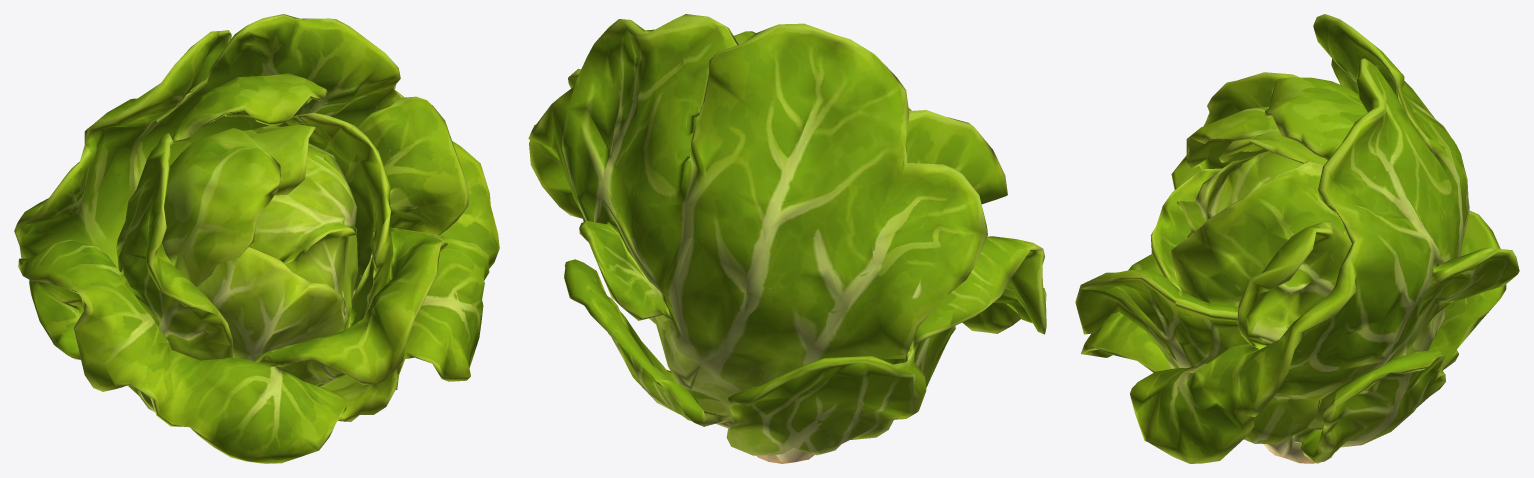
The model's file is d_lettuce.glb.
3 renders of one model, left to right at view 1: azimuth 30°, elevation 25°; view 2: azimuth 150°, elevation 25°; view 3: azimuth 270°, elevation 25°, orthographic. The views are drawn at different scales.
Size of the model in its own units: 1.9 by 1.64 by 1.59.
1 material, 1 textured.
